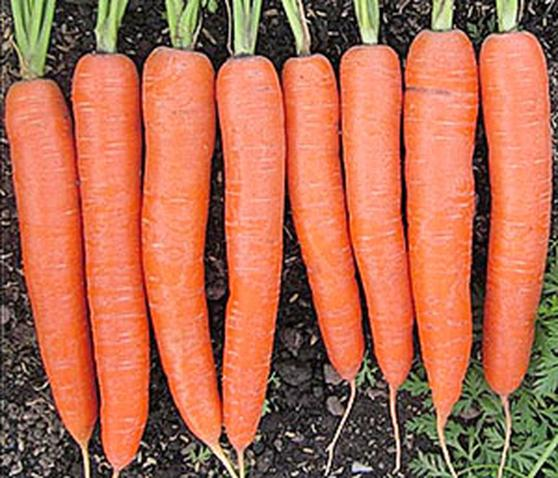carrot: (65, 45, 162, 474), (133, 36, 229, 462), (400, 18, 489, 451), (6, 80, 105, 463), (333, 35, 427, 403), (475, 20, 556, 415), (218, 47, 295, 460), (284, 45, 360, 384)
